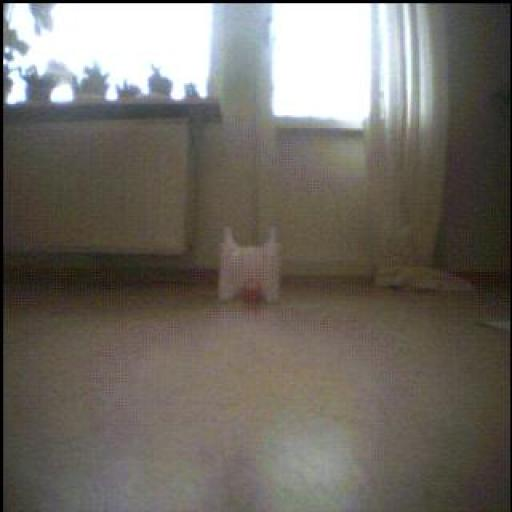Basket: (241, 277, 264, 309)
